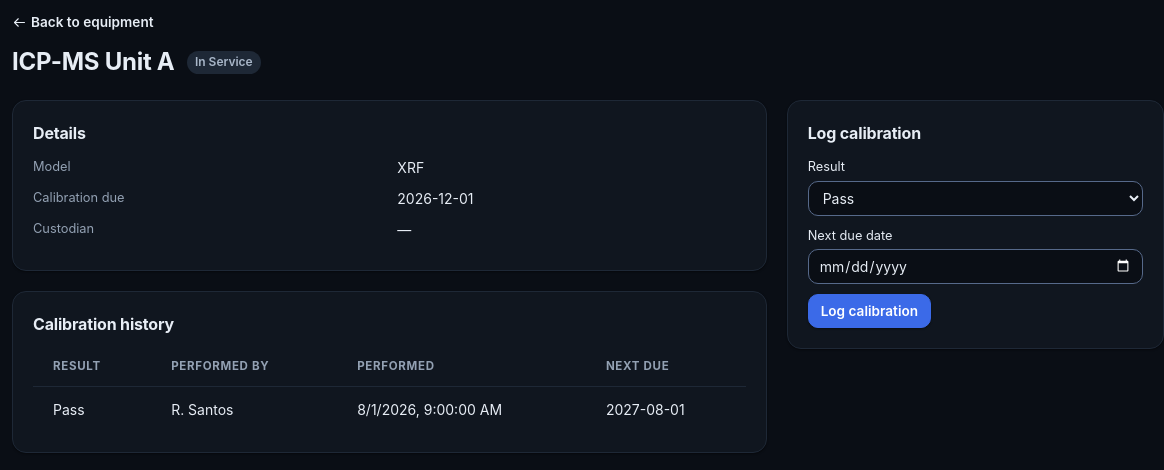
Test: logging a calibration › surfaces the server's rejection
This screenshot has width=1164, height=470.
Expected: the button "Log calibration" is shown, [808,294,931,328]
Type "2020-01-01" into the date field labelled "Next due date" at (975, 266), box [808,249,1143,284]
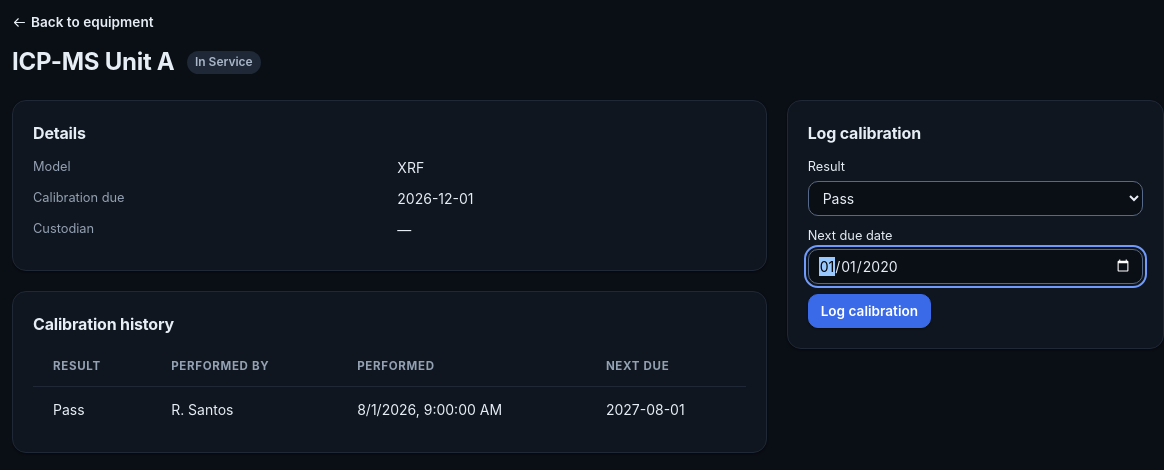
Click the button "Log calibration" at (869, 311), box [808,294,931,328]
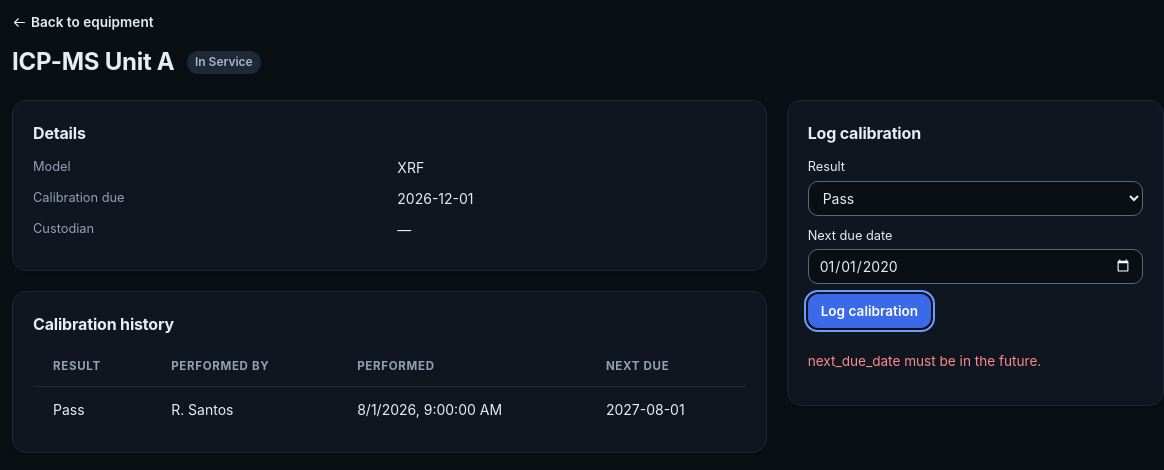
Now the text "next_due_date must be in the future." is shown, box [808,353,1041,369]
